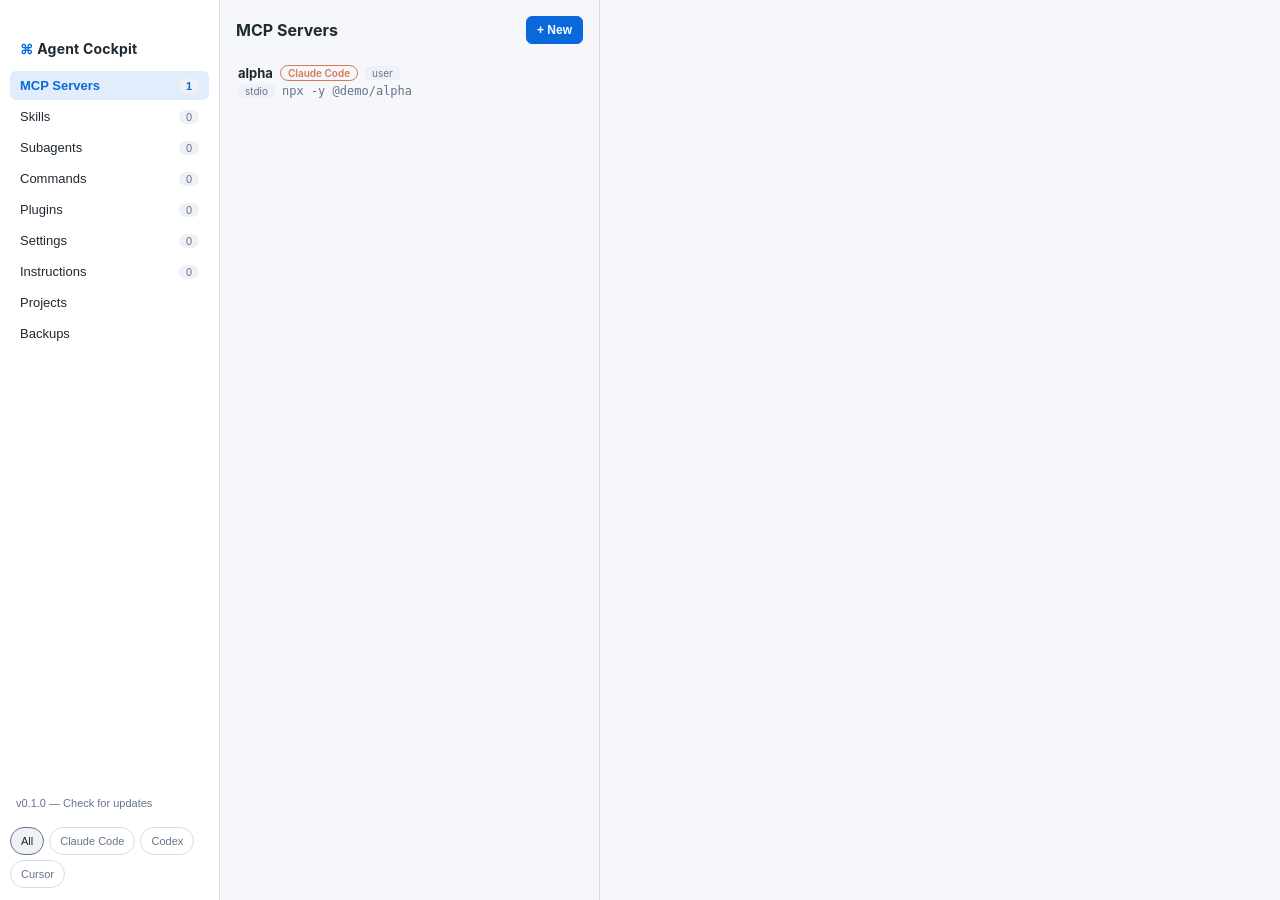
Test: App › shows the stale banner instead when the open editor has a draft, and Reload discards it undoably
This screenshot has width=1280, height=900.
Expected: the heading "MCP Servers" is shown, [236,20,338,40]
Click the button "alpha Claude Code user stdio npx -y @demo/alpha" at {"x": 410, "y": 82}, box [222,56,599,107]
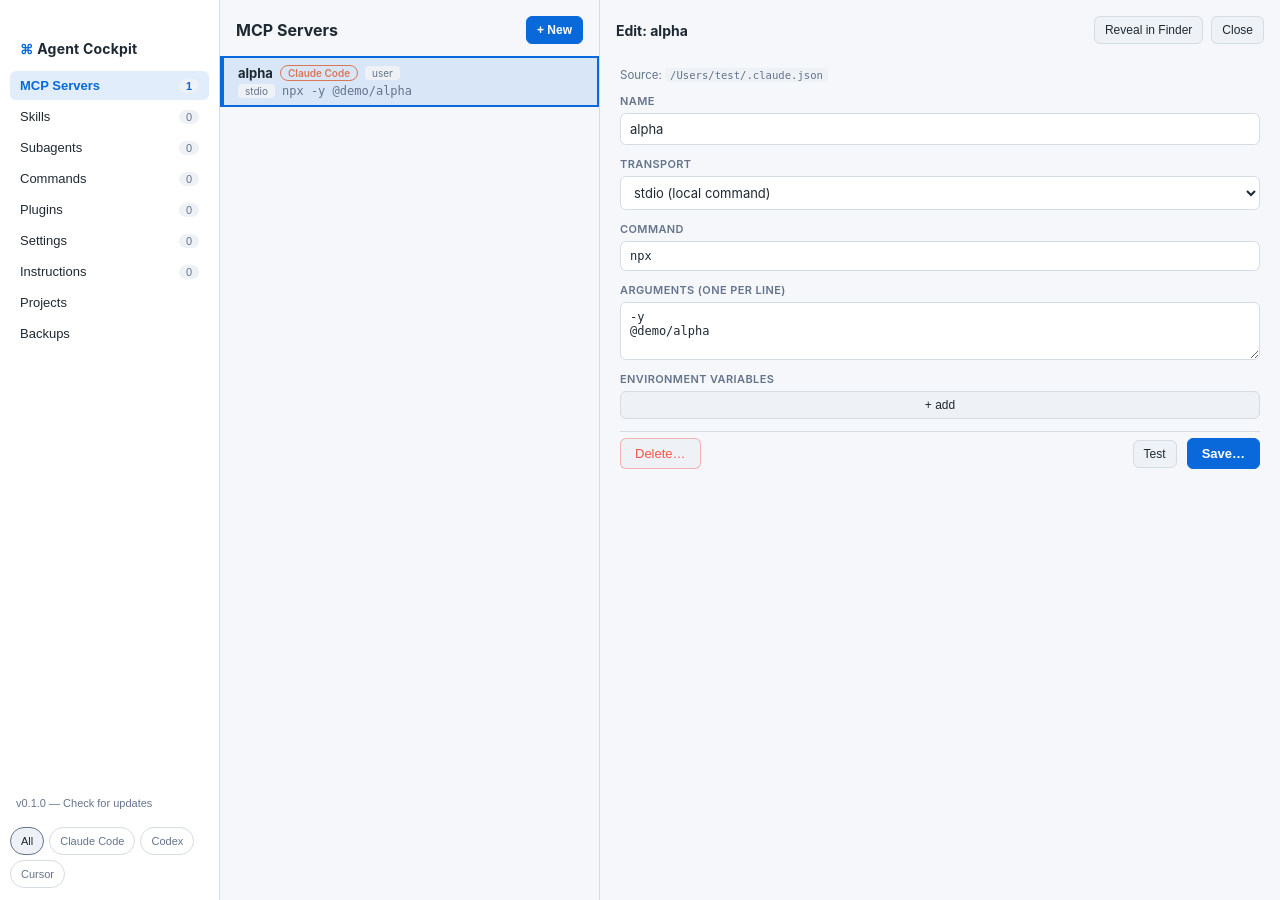
Type "-x" into the field labelled "Name" at {"x": 940, "y": 129}, box [620,113,1260,145]
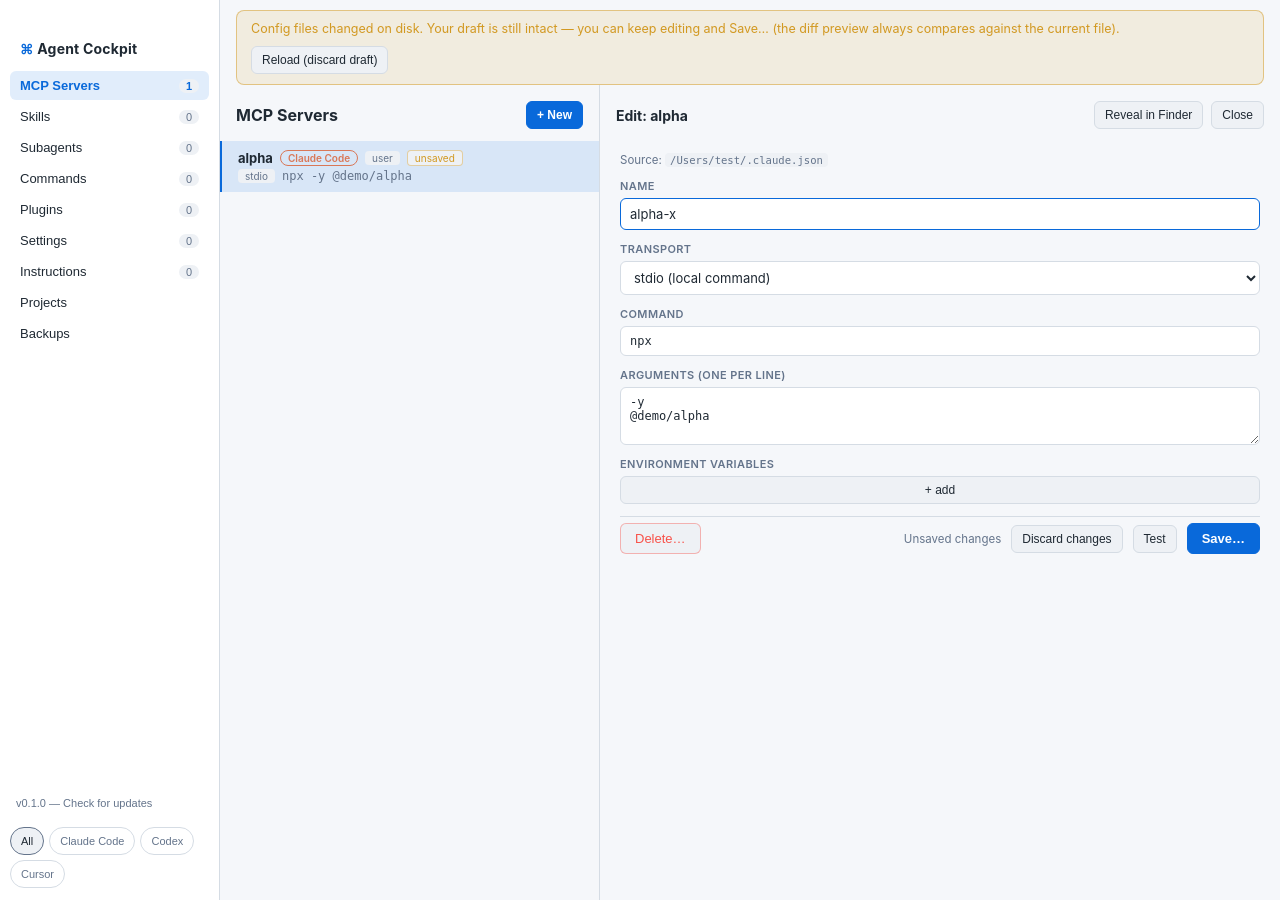
Result: the text "Unsaved changes" is shown at [904,532,1001,546]
Result: the text "Config files changed on disk" is shown at [251,21,1120,36]
Click the button "Reload (discard draft)" at {"x": 320, "y": 60}, box [251,46,388,74]
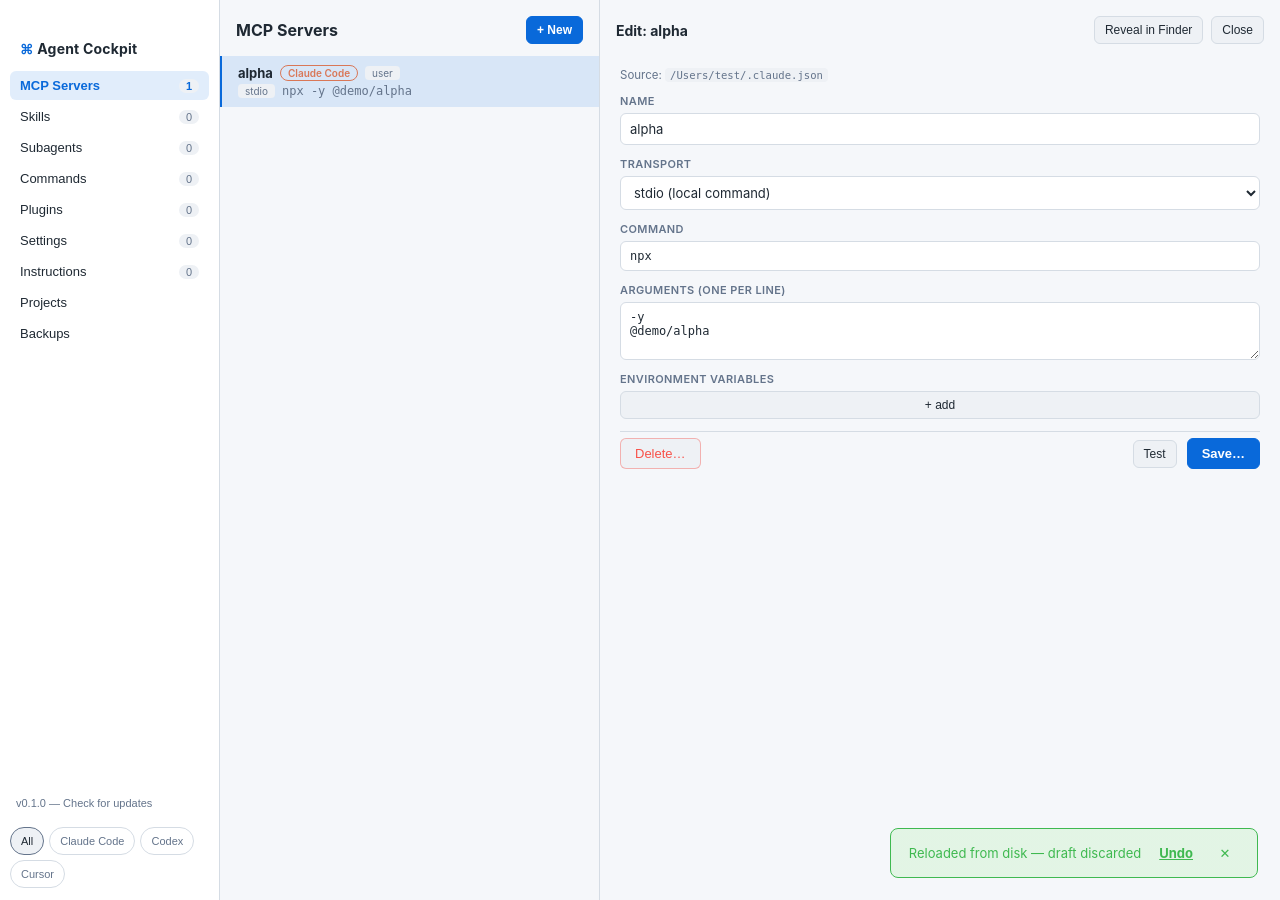
Result: the text "Config files changed on disk" is gone
Result: the field labelled "Name" holds "alpha" at [620,113,1260,145]
Result: the message shows "Reloaded from disk — draft discarded" at [909,845,1141,861]
Click the button "Undo" at {"x": 1176, "y": 853}, box [1153,839,1199,867]
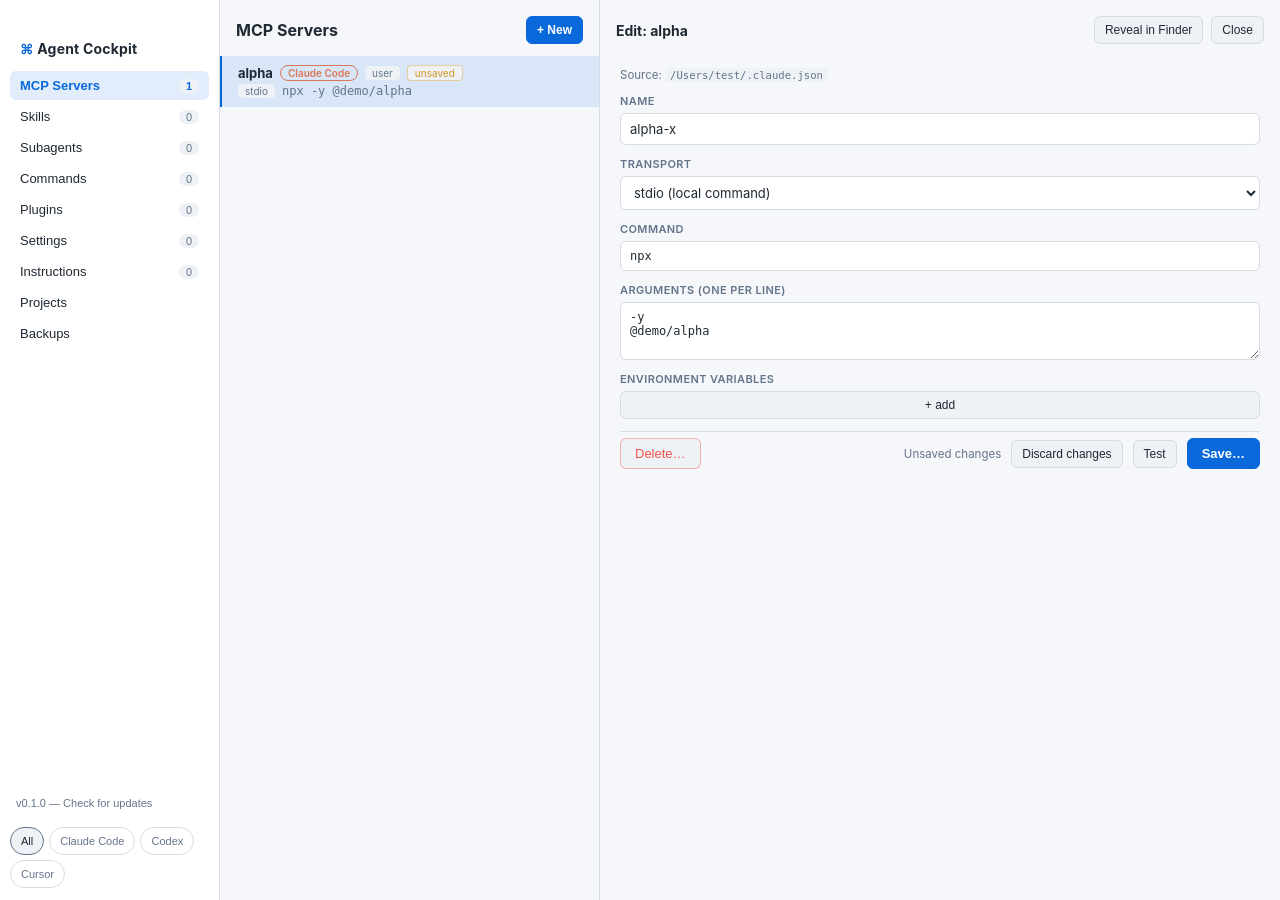
Result: the field labelled "Name" holds "alpha-x" at [620,113,1260,145]
Result: the message "Reloaded from disk — draft discarded Undo ✕" is gone
